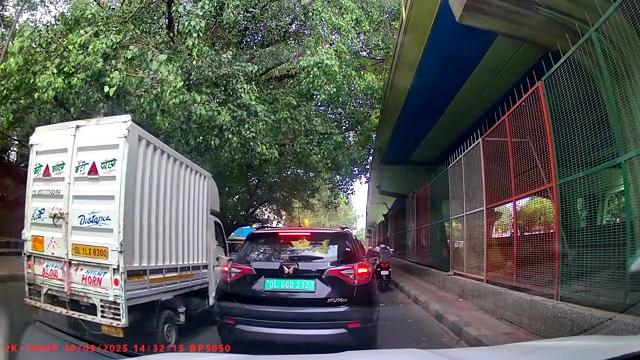motorcycle_with_helmet: (374, 236, 394, 291)
